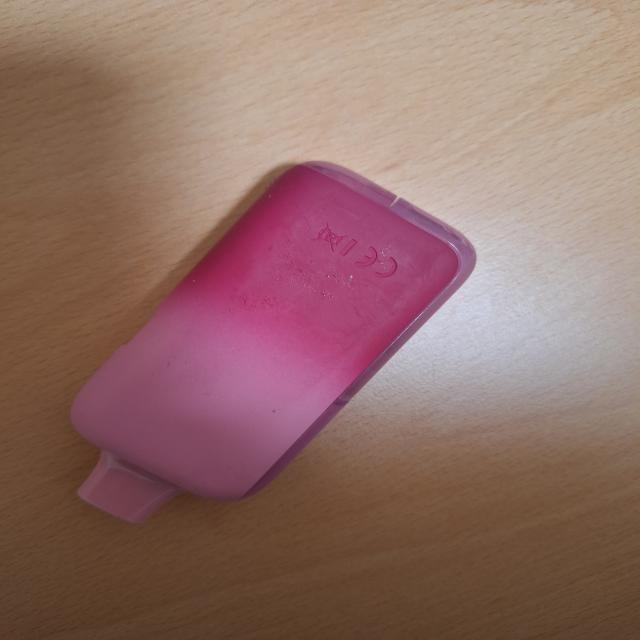Hazard: (69, 159, 478, 524)
